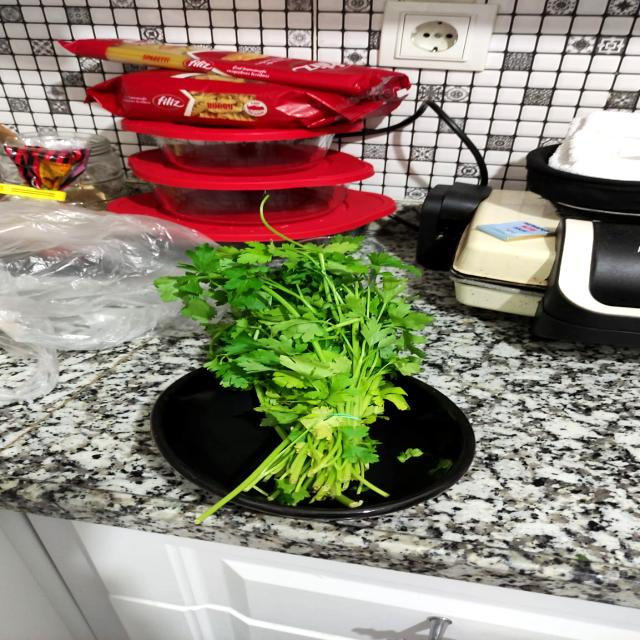parsley: (157, 201, 459, 522)
